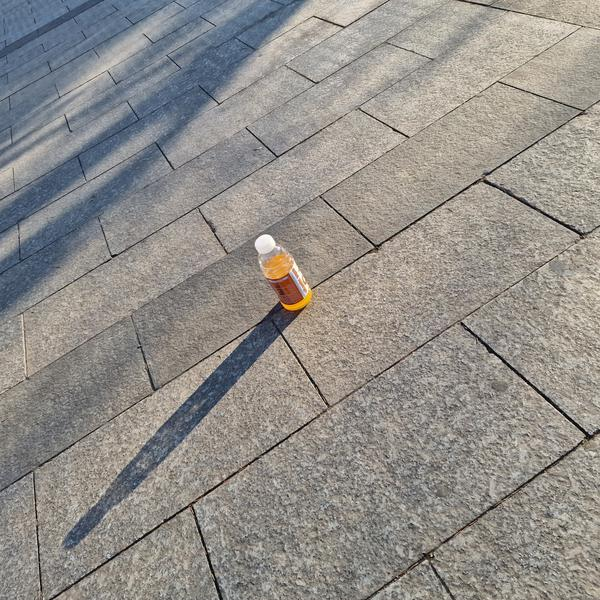plastic_bottle: (245, 227, 319, 317)
